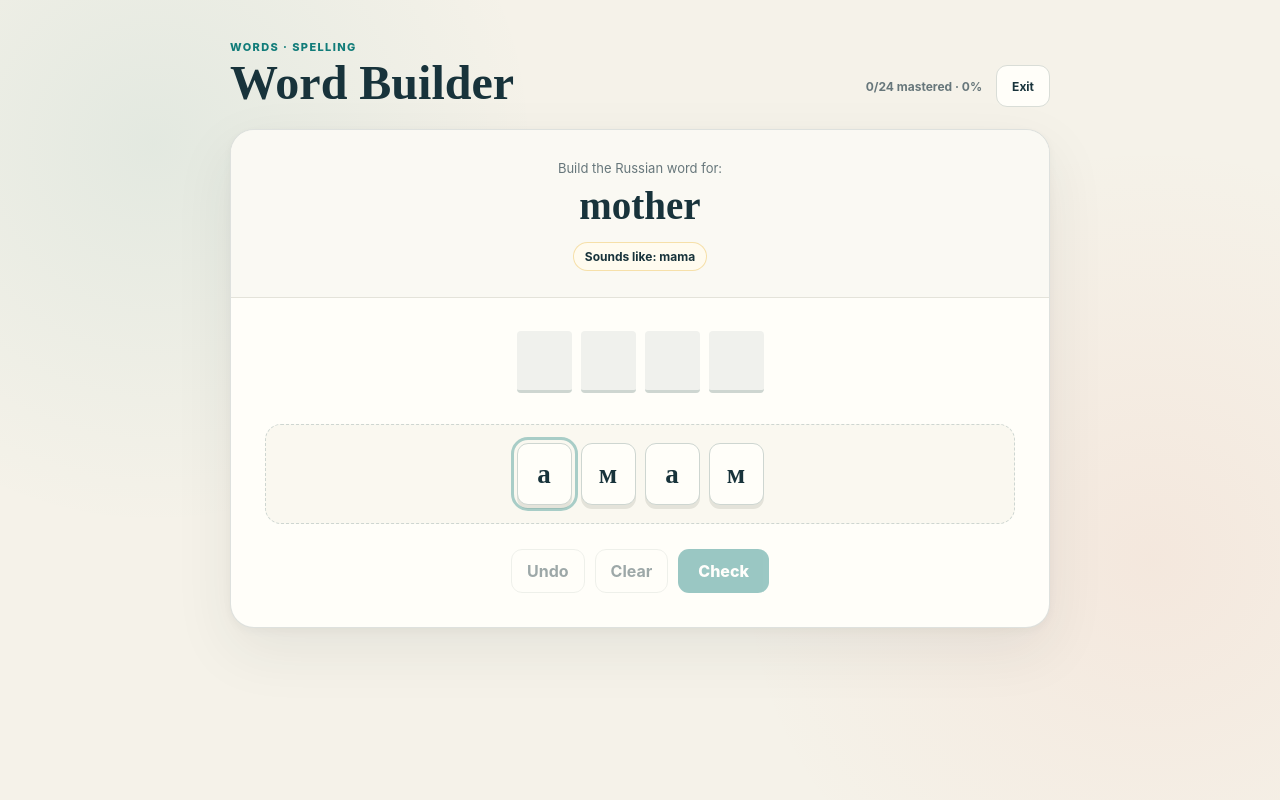
Test: WordBuilderGame › shows complete corrective feedback and immediately persists in its separate document
Click the button named "Add м" at [608, 474], box 580,443 -> 636,505
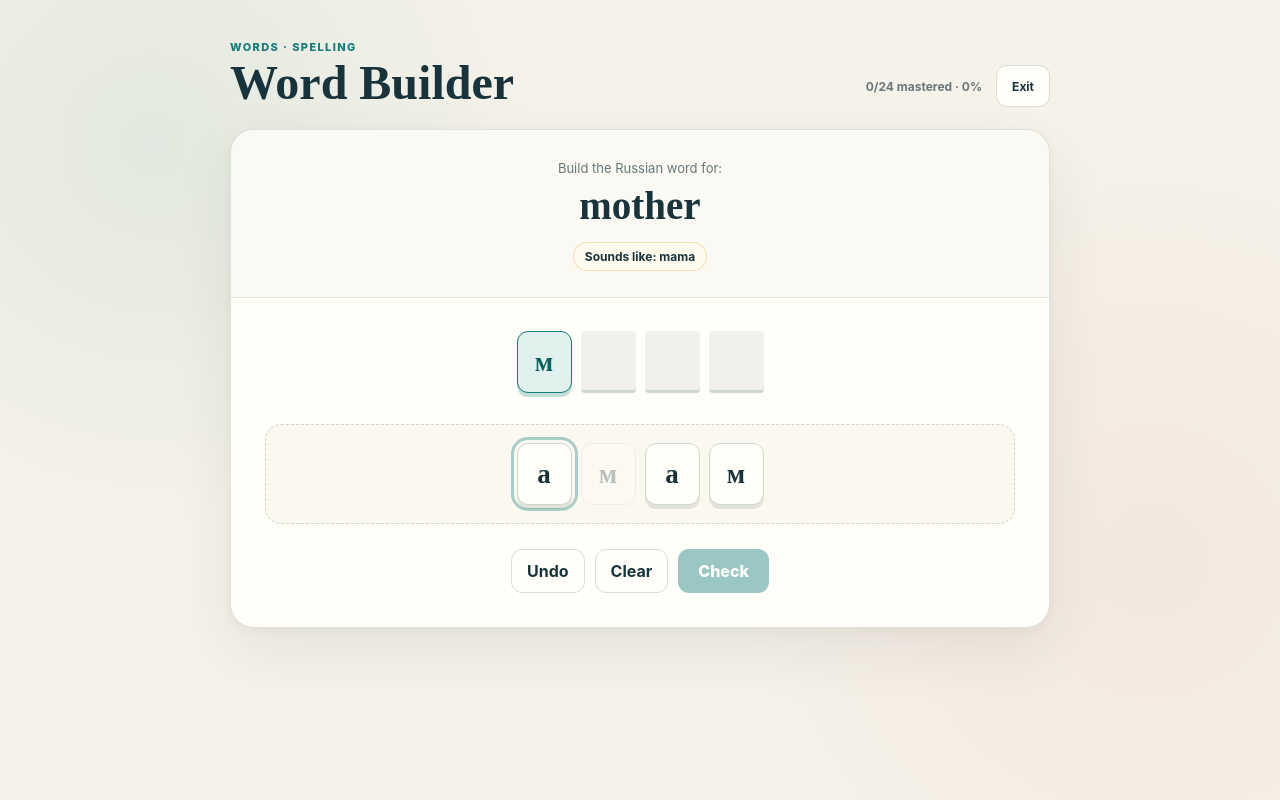
Click the button named "Add а" at [544, 474], box 516,443 -> 572,505
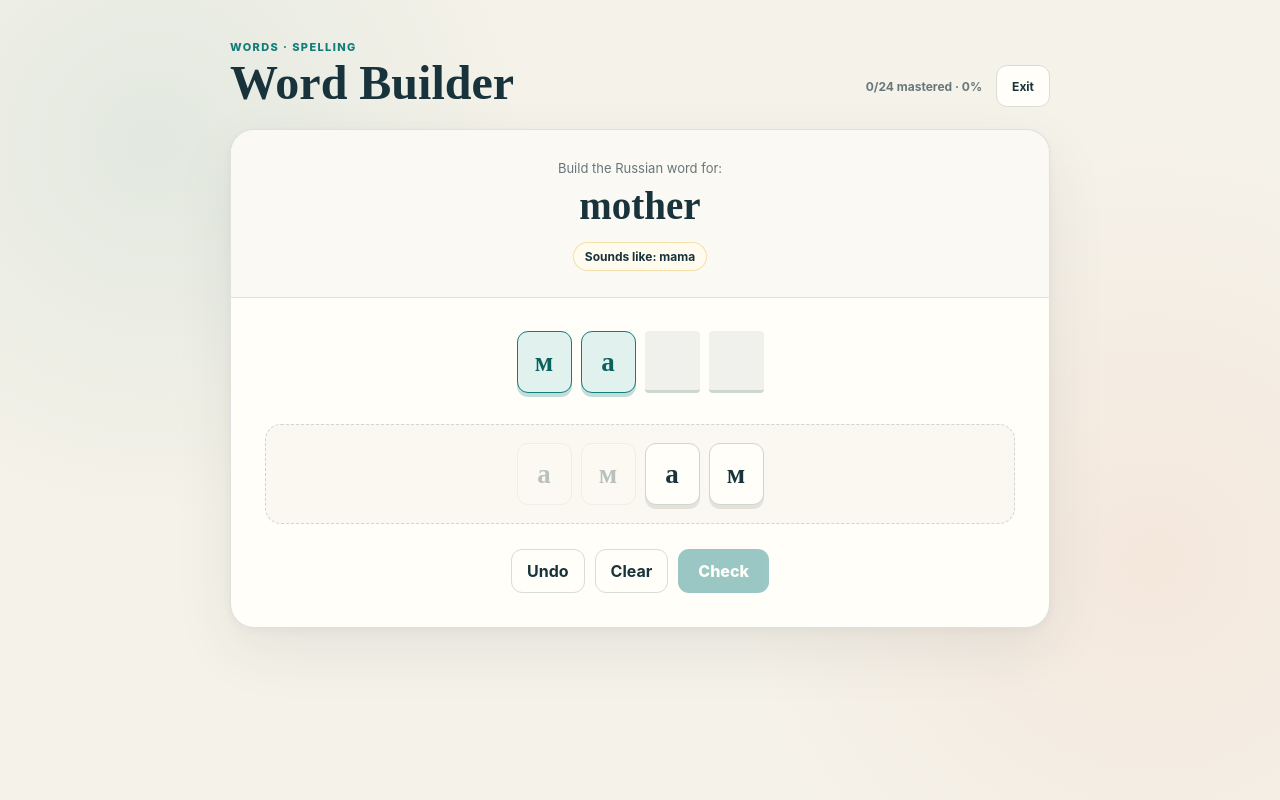
Click the button named "Add а" at [672, 474], box 644,443 -> 700,505
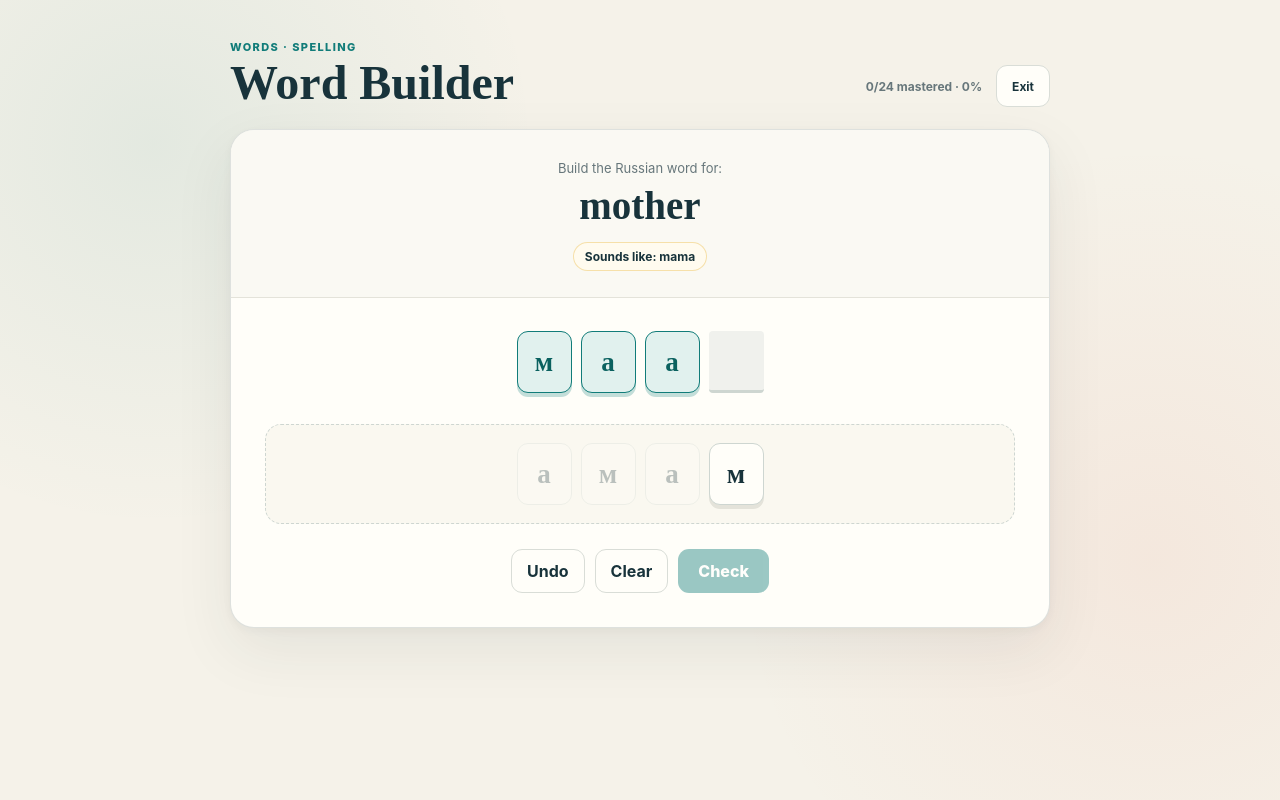
Click the button named "Add м" at [736, 474], box 708,443 -> 764,505
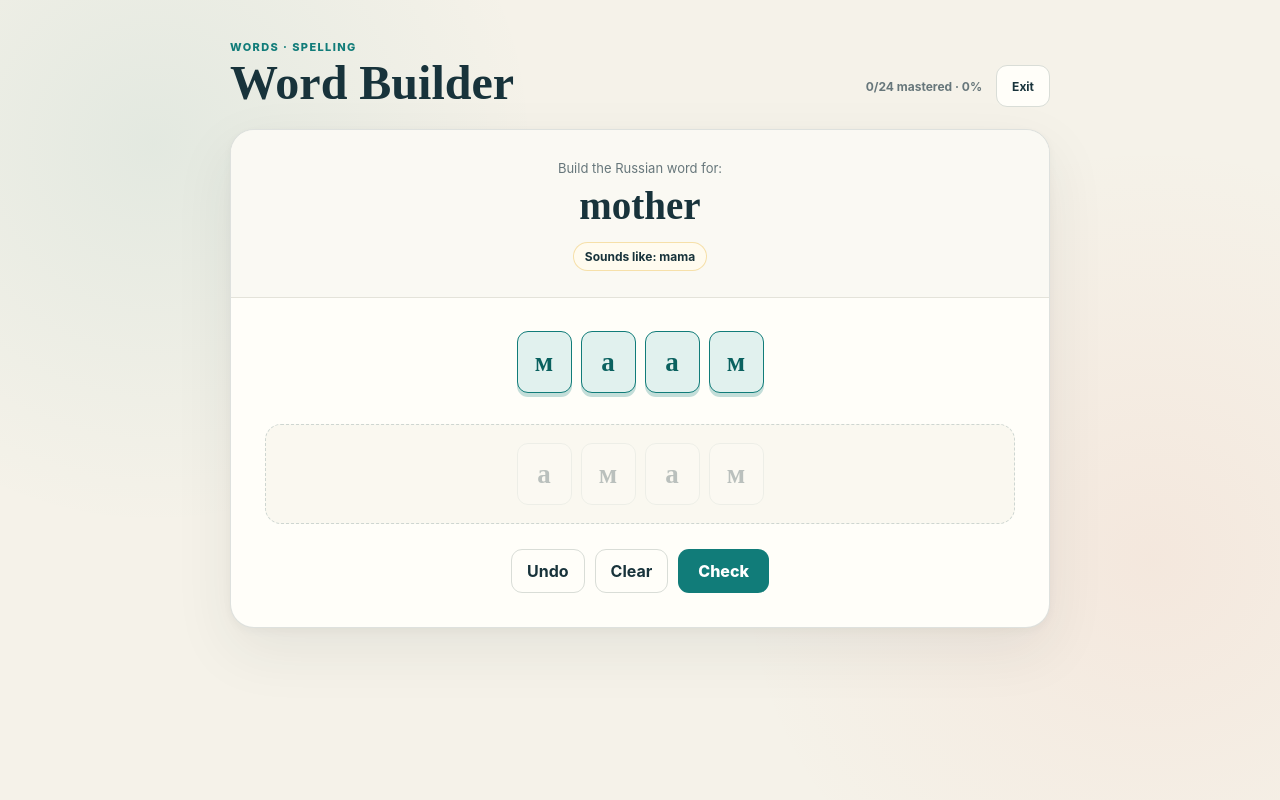
Click the button "Check" at [724, 571], box 678,549 -> 769,593
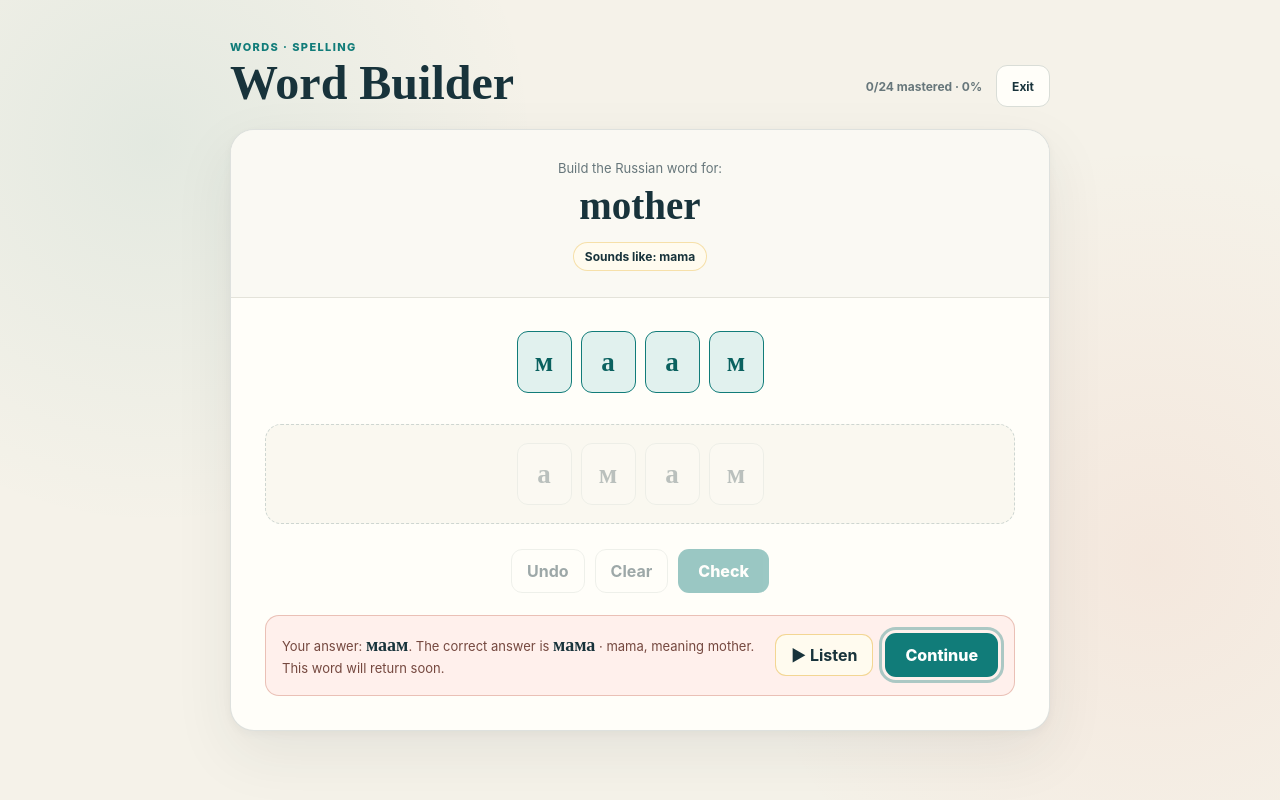
Result: the message shows "Your answer: маам" at 265,615 -> 1015,696
Result: the message shows "The correct answer is мама · mama, meaning mother." at 265,615 -> 1015,696
Result: the message shows "This word will return soon." at 282,638 -> 754,676
